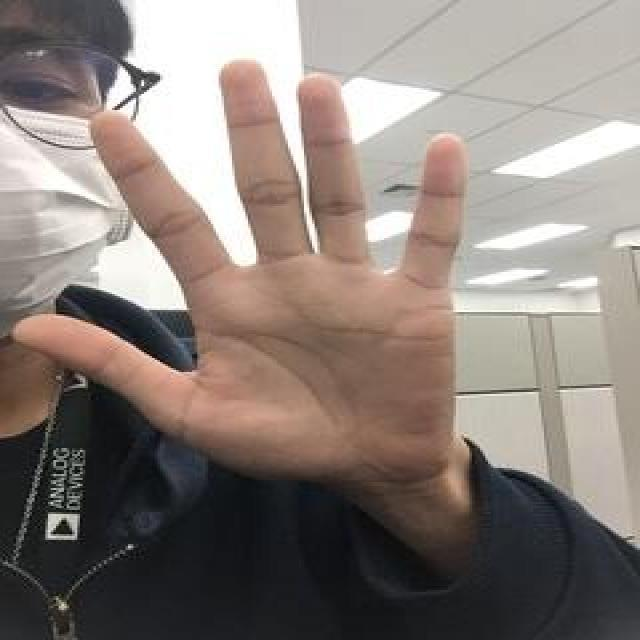hand: (19, 54, 465, 480)
